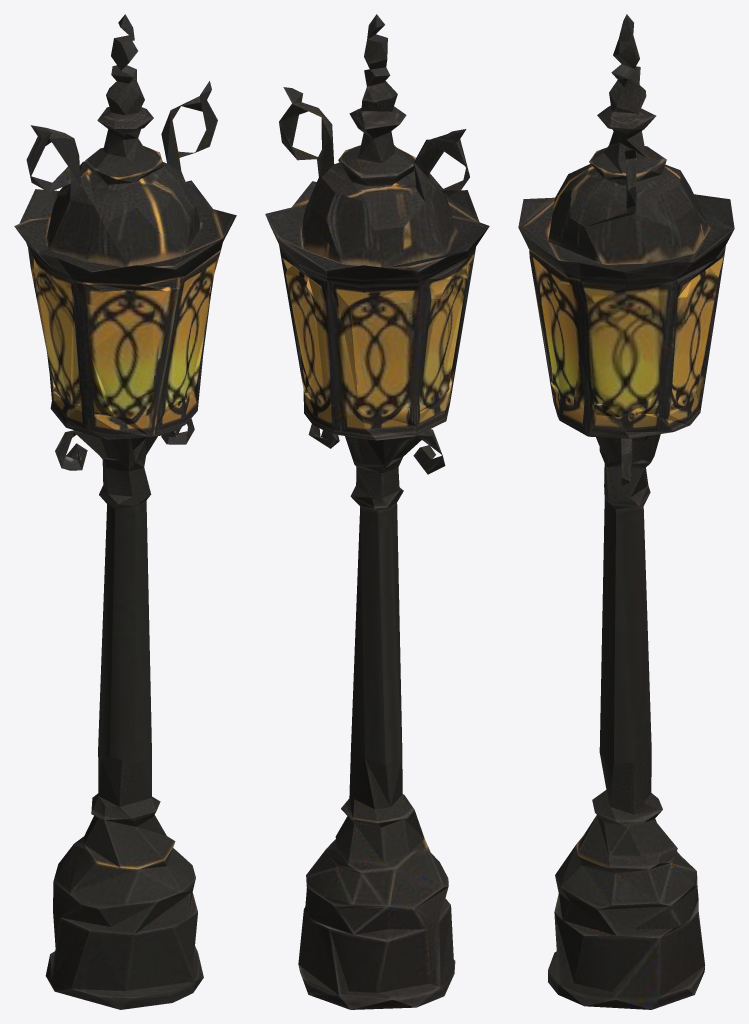
File: lantern.glb
3 renders of one model, left to right at view 1: azimuth 30°, elevation 25°; view 2: azimuth 150°, elevation 25°; view 3: azimuth 270°, elevation 25°, orthographic.
Bounding box in the file's own units: 0.3878 × 1.9 × 0.3866.
Materials: 1 (1 with a texture image).
